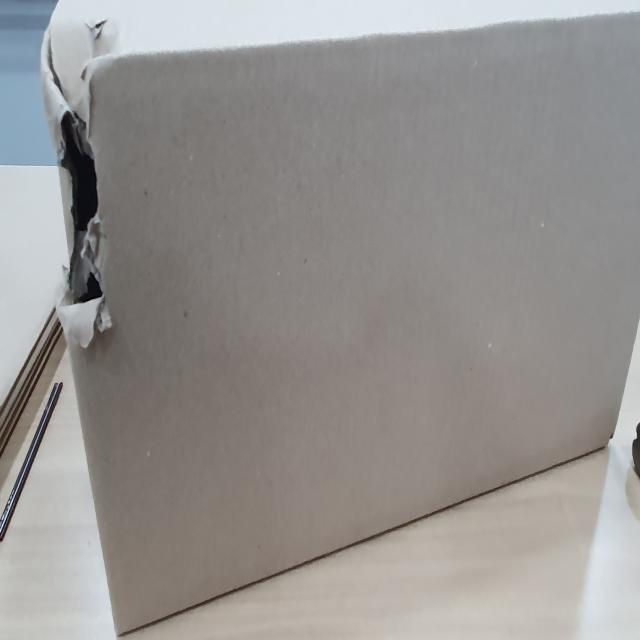hole: (51, 88, 117, 336)
